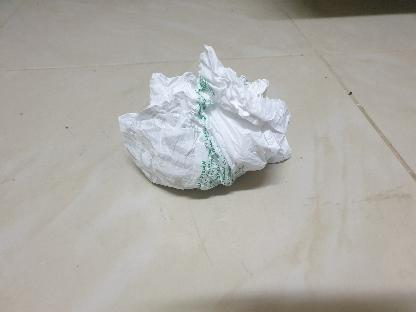Plastic Bag: (112, 38, 296, 198)
